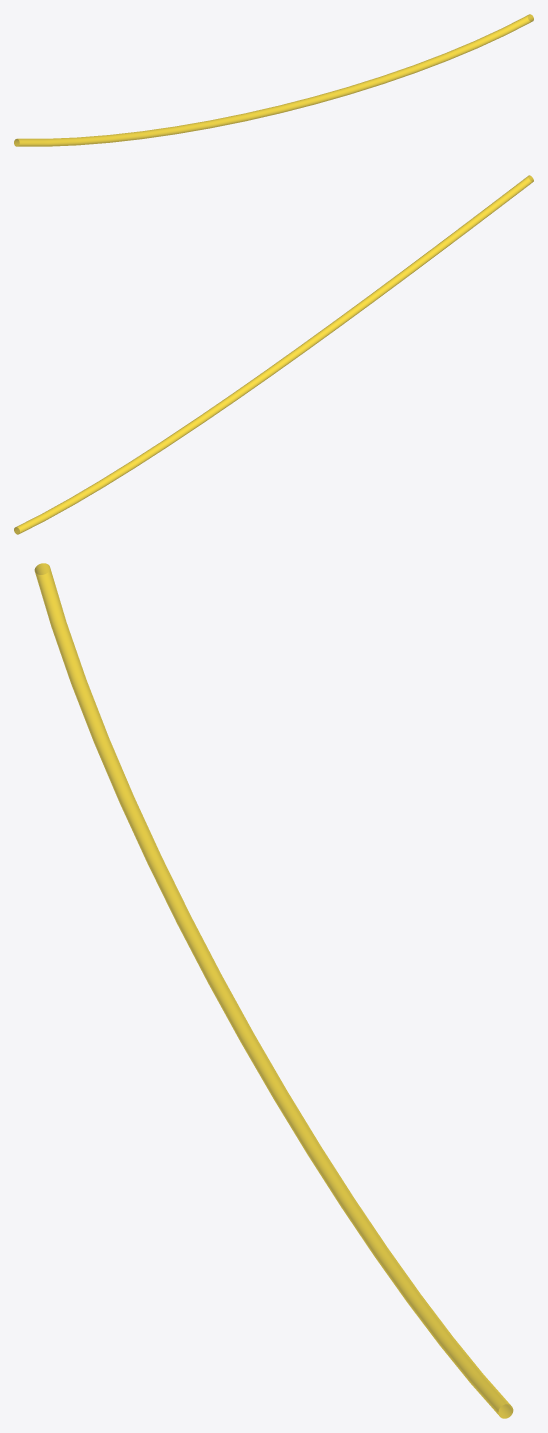
File: Event_17758602_track_22.fbx
3 views of the same model, one above another, from view 1: azimuth 30°, elevation 25°; view 2: azimuth 210°, elevation 25°; view 3: azimuth 270°, elevation 25° (orthographic). The views are drawn at different scales.
Visible parts, largest first — view 1: Model; view 2: Model; view 3: Model.
Part boxes in pixels (box(x1,y1,x2,y2)): Model: box(14, 14, 533, 146); Model: box(14, 175, 533, 534); Model: box(34, 563, 513, 1418).
Bounding box in the file's own units: 3.66 × 0.6691 × 1.2.
